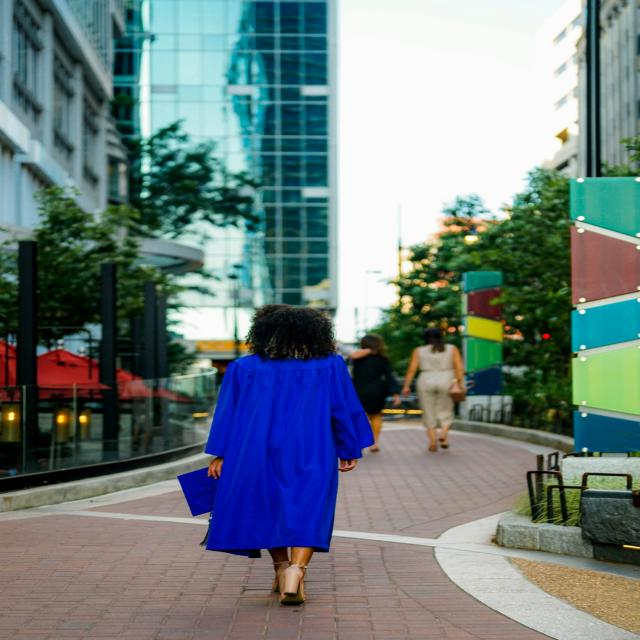adult: (180, 303, 380, 605)
